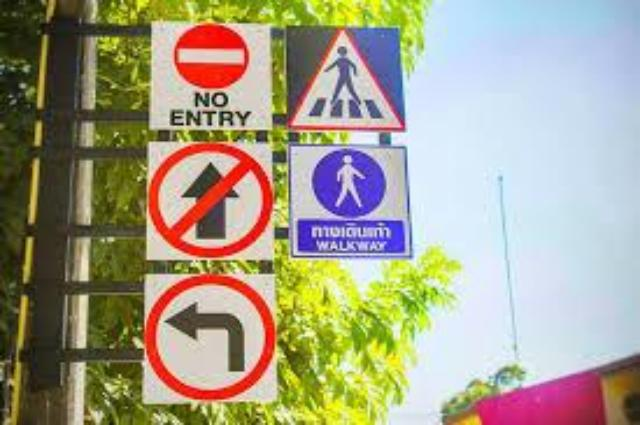B2: (176, 23, 248, 91)
